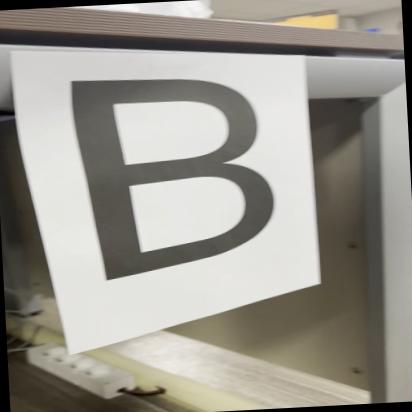seat: (43, 68, 292, 308)
